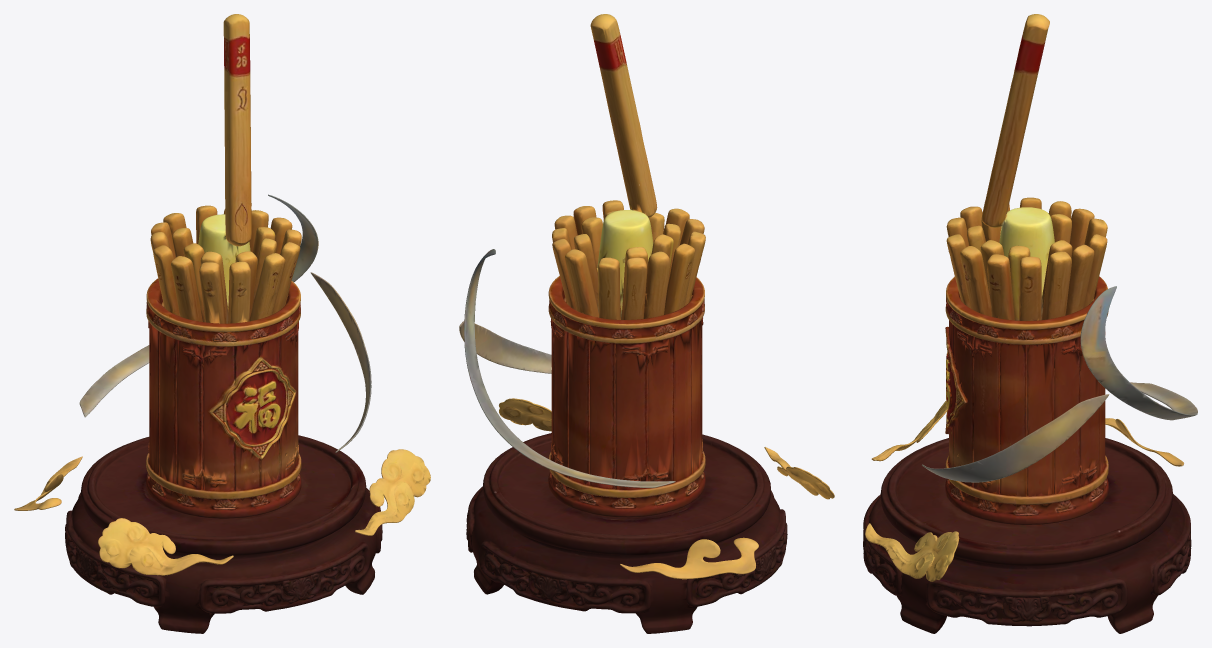
The model's file is xam-set.glb.
The picture shows the model from 3 angles, left to right: view 1: azimuth 30°, elevation 25°; view 2: azimuth 150°, elevation 25°; view 3: azimuth 270°, elevation 25°; orthographic projection. The views are drawn at different scales.
Parts seen in each view (by area): view 1: tripo_node_012bb46e-bf5e-4c72-93bc-13ea0561e1a8; view 2: tripo_node_012bb46e-bf5e-4c72-93bc-13ea0561e1a8; view 3: tripo_node_012bb46e-bf5e-4c72-93bc-13ea0561e1a8.
Boxes of the visible parts, box(x1,y1,x2,y2) form: tripo_node_012bb46e-bf5e-4c72-93bc-13ea0561e1a8: box(14, 14, 430, 633); tripo_node_012bb46e-bf5e-4c72-93bc-13ea0561e1a8: box(459, 14, 834, 633); tripo_node_012bb46e-bf5e-4c72-93bc-13ea0561e1a8: box(863, 14, 1197, 633).
Size of the model in its own units: 0.6239 by 0.9785 by 0.5179.
1 material, 1 textured.
